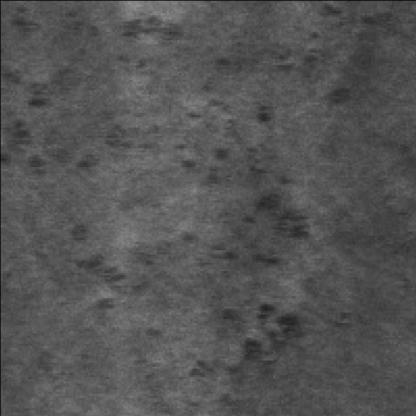rolled-in_scale: (179, 122, 349, 404), (25, 77, 169, 310), (137, 8, 356, 121)
